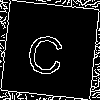C: (25, 25, 67, 76)
